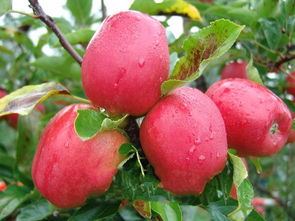apple: (138, 86, 230, 199)
obscured(0)_apple: (79, 10, 178, 117)
obscured(1)_apple: (27, 104, 136, 210)
obscured(2)_apple: (205, 74, 294, 159)
